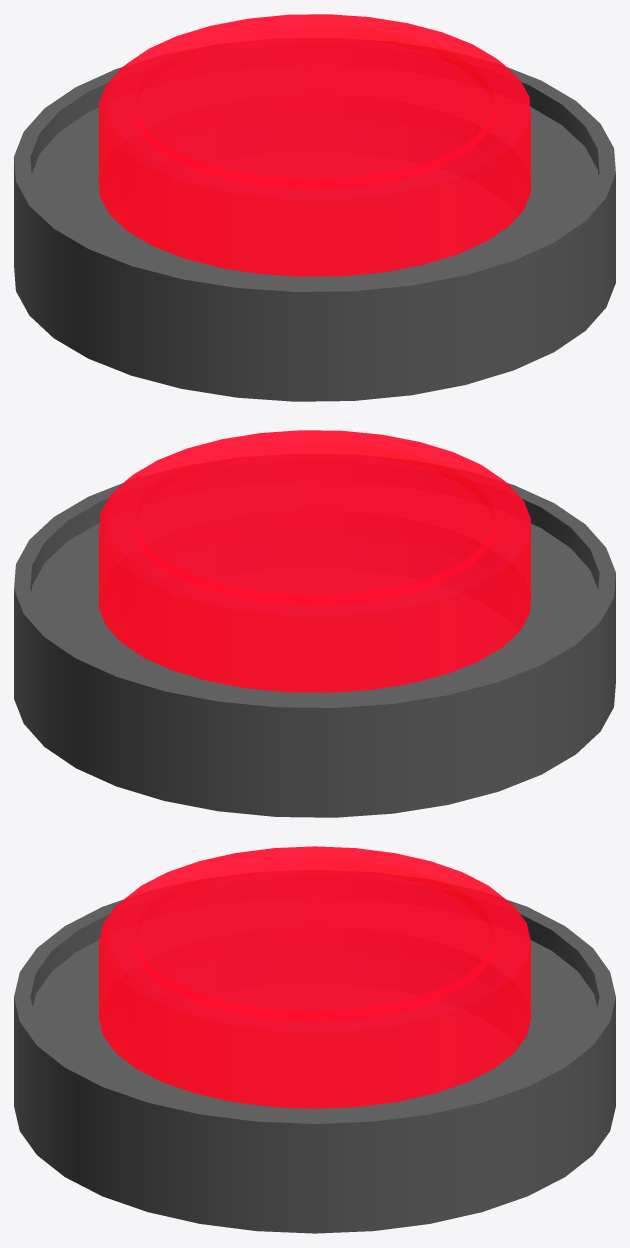
The model's file is Button.fbx.
The picture shows the model from 3 angles, top to bottom: view 1: azimuth 30°, elevation 25°; view 2: azimuth 150°, elevation 25°; view 3: azimuth 270°, elevation 25°; orthographic projection.
Visible parts, largest first — view 1: Button, Button Base; view 2: Button, Button Base; view 3: Button, Button Base.
Part boxes in pixels (<box>): Button: <box>14,67,615,401</box>; Button Base: <box>99,14,530,276</box>; Button: <box>14,483,615,817</box>; Button Base: <box>99,430,530,692</box>; Button: <box>14,900,615,1233</box>; Button Base: <box>99,846,530,1108</box>.
Bounding box in the file's own units: 200 × 62.95 × 200.
